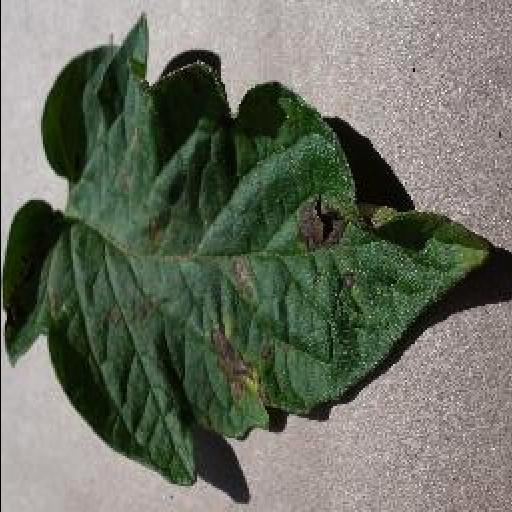Early Blight: (0, 15, 490, 484)
